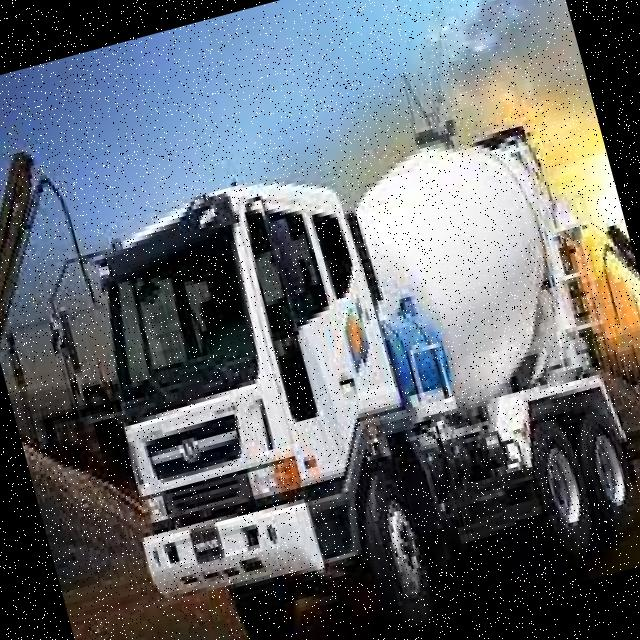Mixer Truck: (54, 96, 640, 640)
